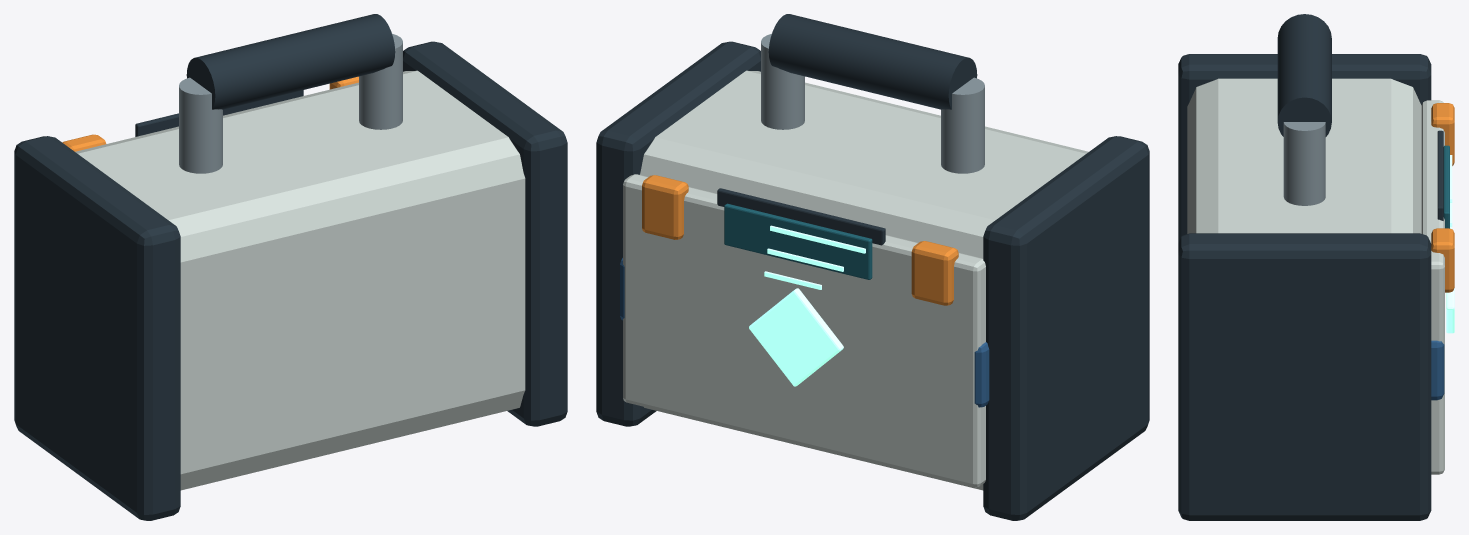
Rendered from soros_medkit.glb.
3 renders of one model, left to right at view 1: azimuth 30°, elevation 25°; view 2: azimuth 150°, elevation 25°; view 3: azimuth 270°, elevation 25°, orthographic. The views are drawn at different scales.
Parts seen in each view (by area): view 1: soros_medkit_mesh, Medical_lid_mesh; view 2: soros_medkit_mesh, Medical_lid_mesh; view 3: soros_medkit_mesh, Medical_lid_mesh.
Boxes of the visible parts, x1,y1,x2,y2 form: soros_medkit_mesh: (14,14,567,520); Medical_lid_mesh: (62,76,358,151); soros_medkit_mesh: (596,14,1149,520); Medical_lid_mesh: (623,174,985,487); soros_medkit_mesh: (1178,14,1452,520); Medical_lid_mesh: (1421,100,1454,474).
Size of the model in its own units: 0.382 by 0.3305 by 0.224.
